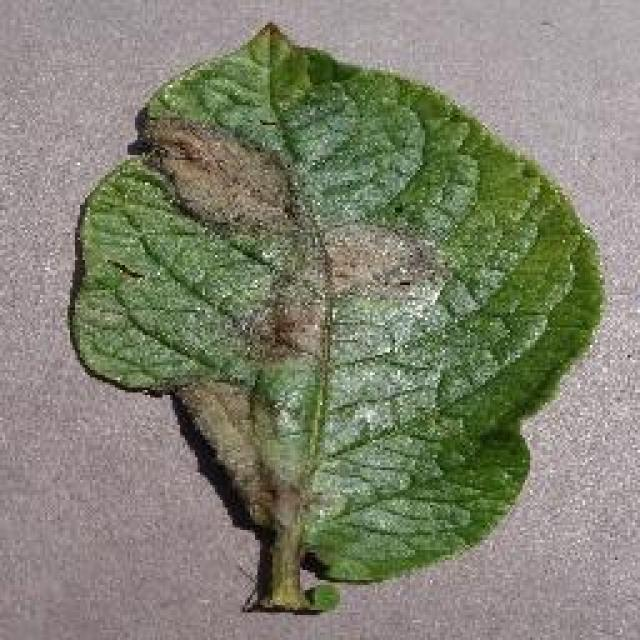late_blight: (62, 18, 608, 610)
